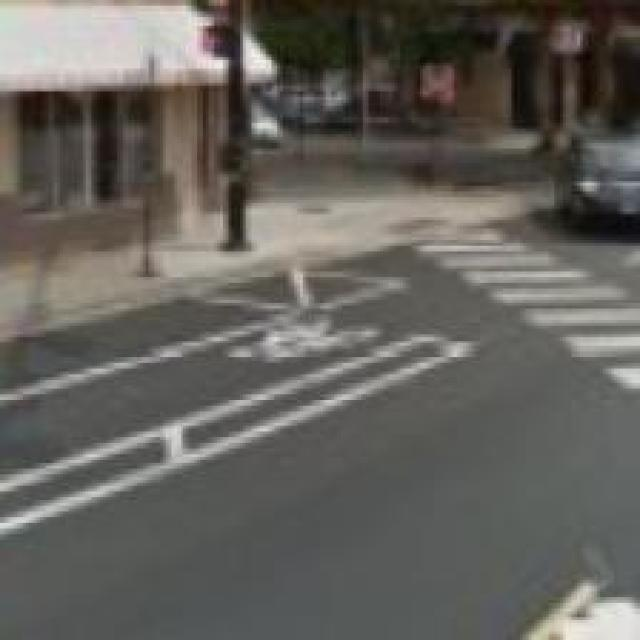walk-crossing: (390, 233, 640, 422)
